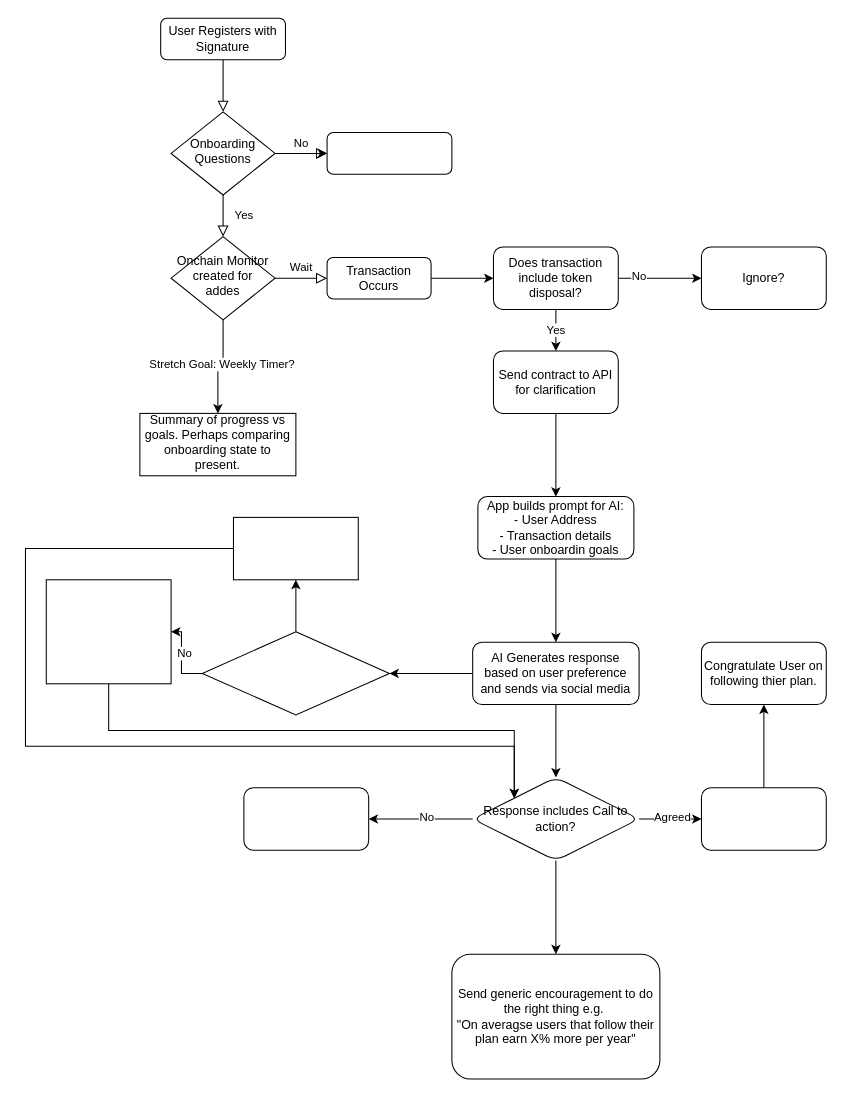
The diagram is 844 pixels wide and 1097 high, and some of its shapes have lost their labels. Here are the shapes that lost their labels. From the top down, the box of each, then its label:
(326, 132, 452, 174): User Profile saved to app/Nillion?
(232, 516, 358, 580): Celebrate and encourage sharing
(45, 579, 171, 684): Share timeless wisdom and reflection questions
(201, 631, 389, 715): Did user make a profit?
(243, 787, 369, 850): No action
(700, 787, 826, 850): Follow recommended transaction
